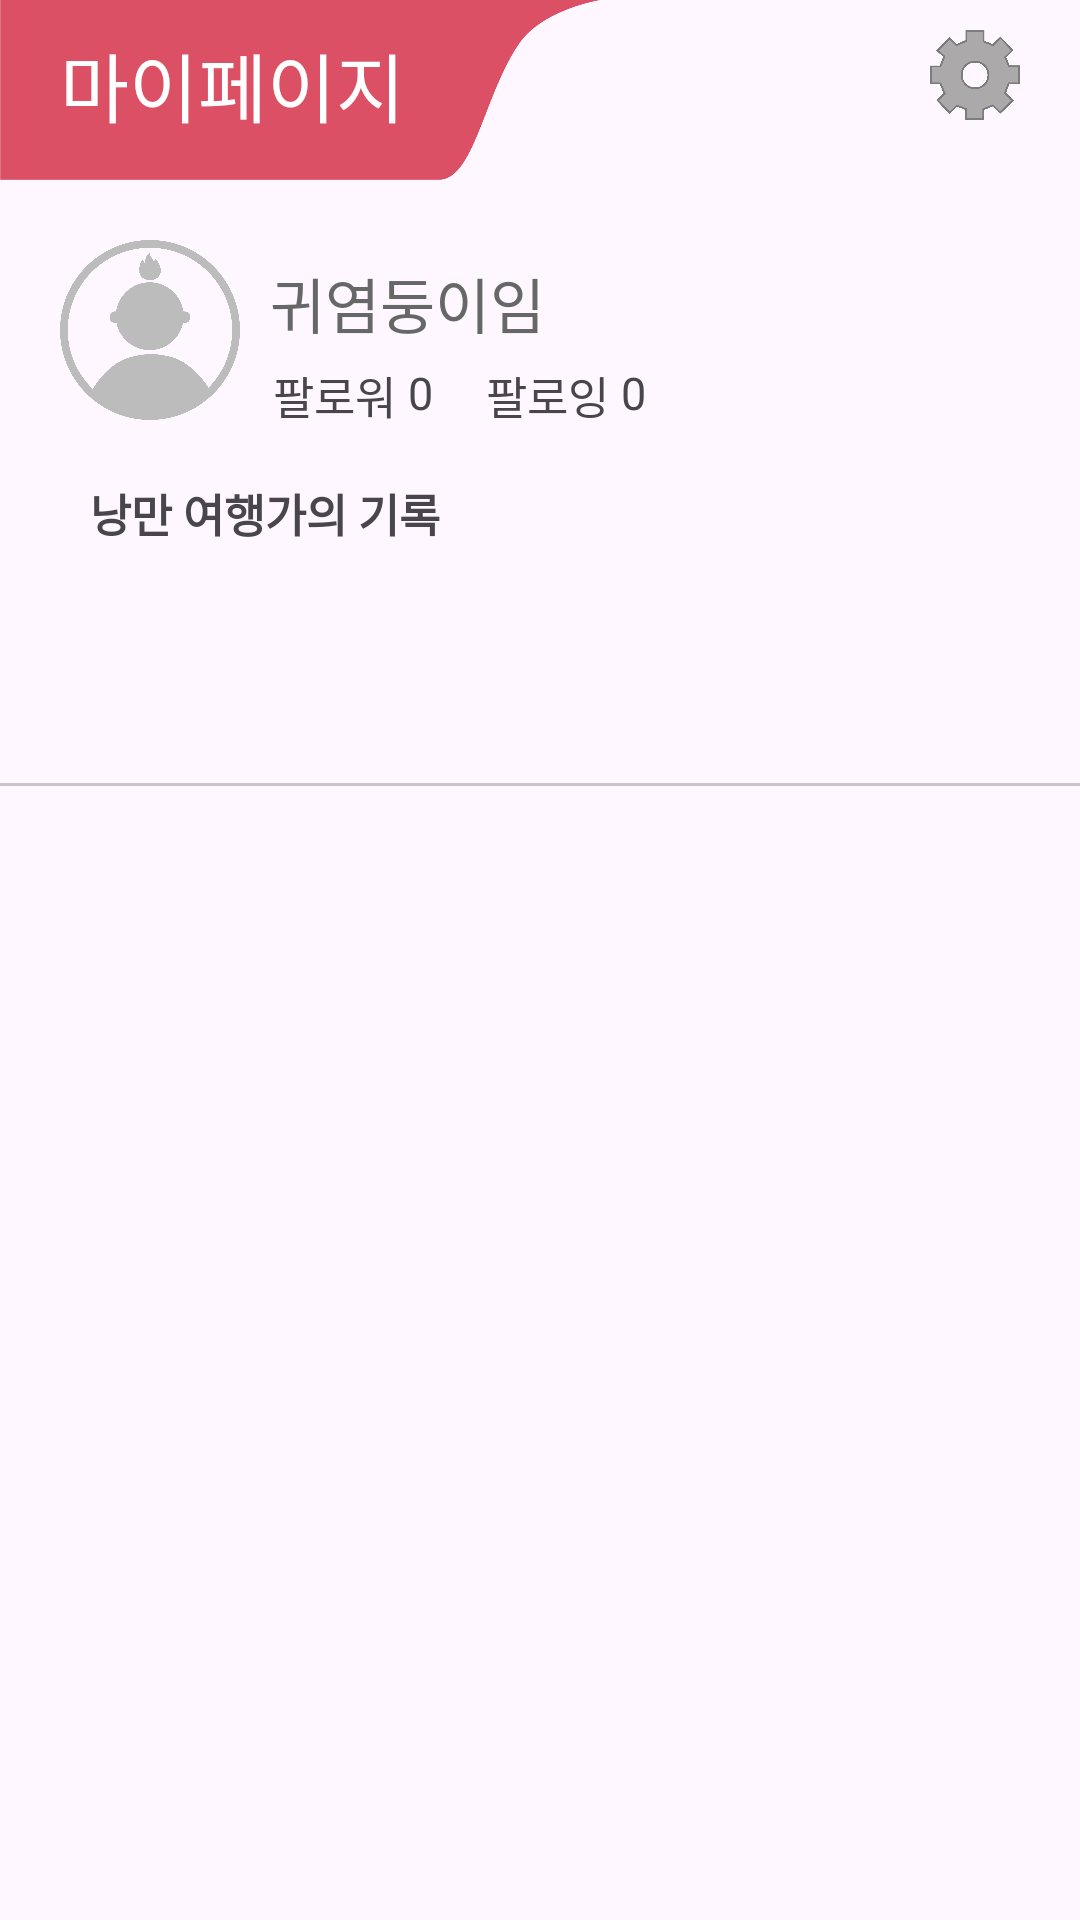

Locate icon controls on the screen. Image size 1080w x 1920h, boxes as (x1, y1, x2, y2).
profile: (60, 240, 240, 420)
setting: (930, 30, 1020, 120)
